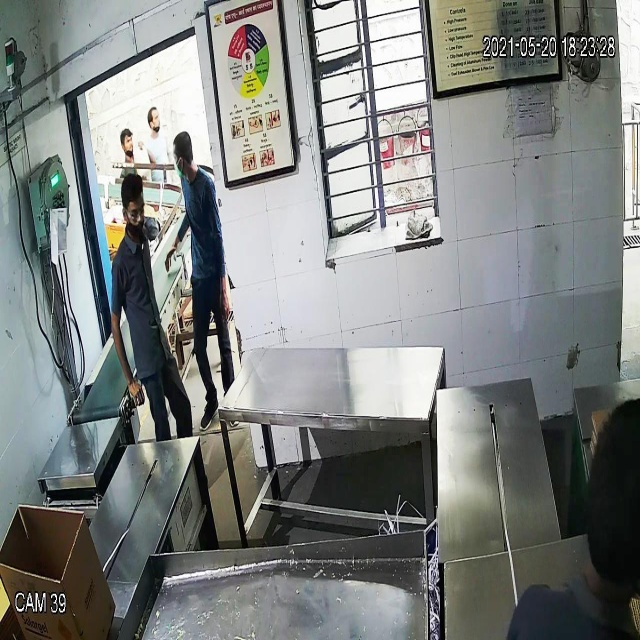Gafas: (120, 198, 149, 225)
